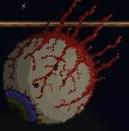eyeC: (1, 1, 129, 131)
